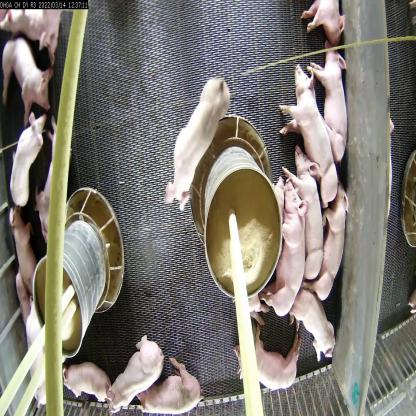Pig: (166, 72, 232, 210), (280, 62, 341, 205), (286, 148, 326, 287), (274, 183, 312, 323), (234, 324, 304, 398), (306, 44, 349, 162), (105, 330, 164, 415), (0, 36, 57, 123), (2, 111, 51, 206), (288, 277, 338, 368), (34, 111, 68, 244), (315, 189, 348, 302), (20, 293, 49, 409), (139, 365, 204, 415), (57, 358, 113, 403), (12, 206, 39, 293)
